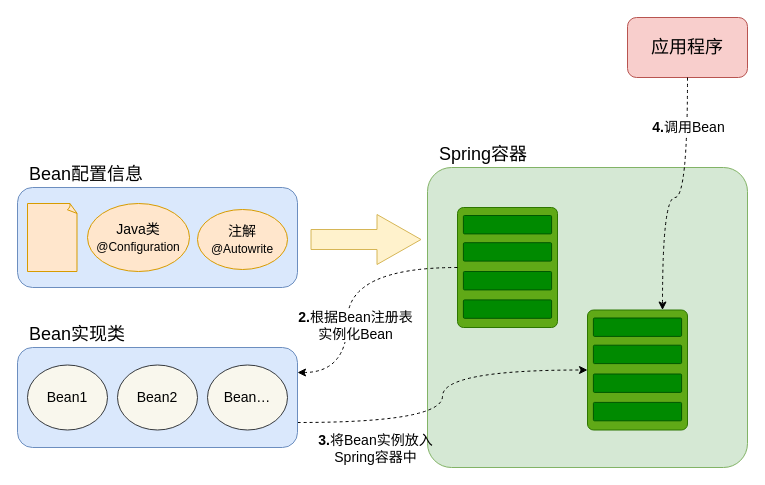
Image size: 765x485. Some labels were removed from this diagram. Each missing label, with the box of its shape:
1. 读取Bean配置信息: (310, 214, 421, 264)
Bean定义注册表: (456, 206, 558, 328)
Bean缓存池: (586, 309, 688, 430)
XML <bean>: (26, 202, 78, 272)
